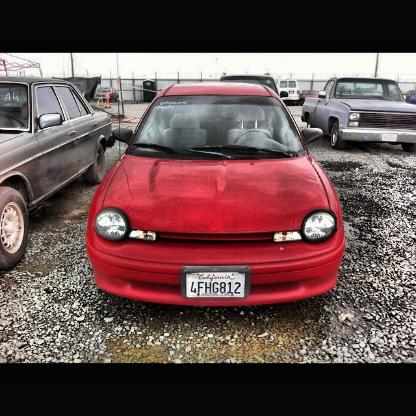Plymouth Neon Coupe 1999: (87, 84, 347, 309)
